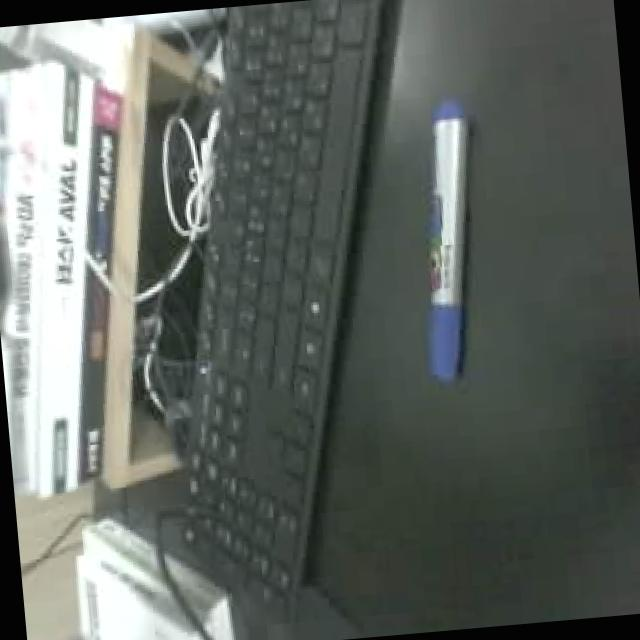board-marker: (419, 84, 516, 416)
